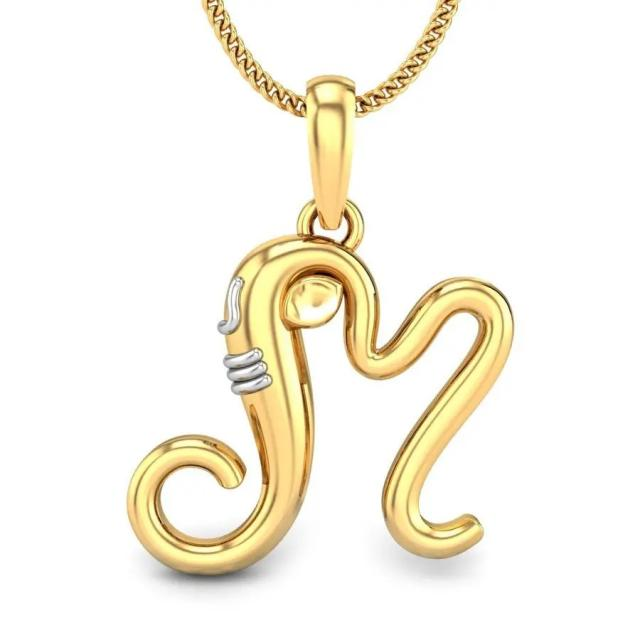missing gem: (287, 279, 337, 324)
